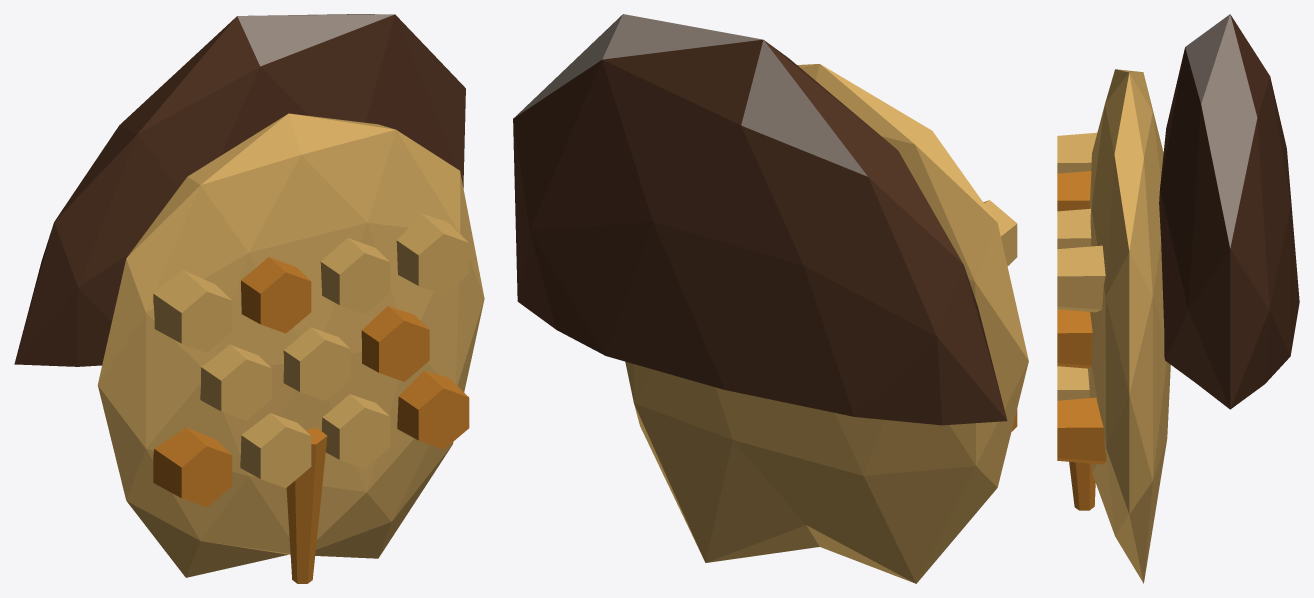
The model's file is honeycomb.glb.
3 views of the same model, side by side, from view 1: azimuth 30°, elevation 25°; view 2: azimuth 150°, elevation 25°; view 3: azimuth 270°, elevation 25° (orthographic). The views are drawn at different scales.
Parts seen in each view (by area): view 1: honeycomb.001; view 2: honeycomb.001; view 3: honeycomb.001.
Part boxes in pixels (x1,y1,x2,y2): honeycomb.001: [14, 14, 484, 583]; honeycomb.001: [513, 14, 1028, 583]; honeycomb.001: [1057, 14, 1299, 583].
Size of the model in its own units: 0.3362 by 0.38 by 0.1594.
